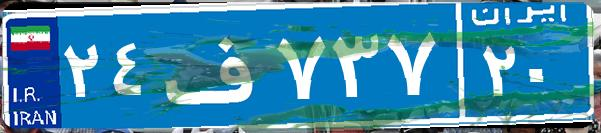0: (525, 38, 570, 115)
2: (57, 26, 110, 107), (475, 38, 525, 113)
3: (330, 28, 385, 110)
4: (110, 28, 158, 105)
7: (385, 28, 445, 110), (273, 28, 330, 110)
ف: (158, 15, 273, 115)
